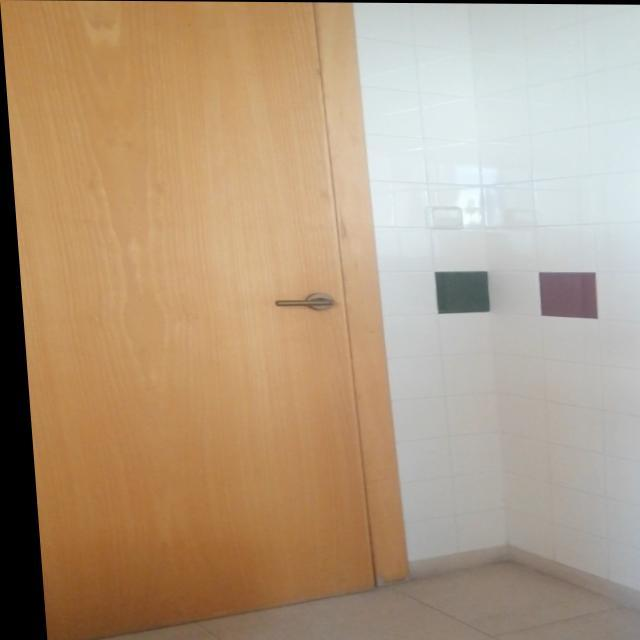door_handle: (266, 296, 333, 307)
